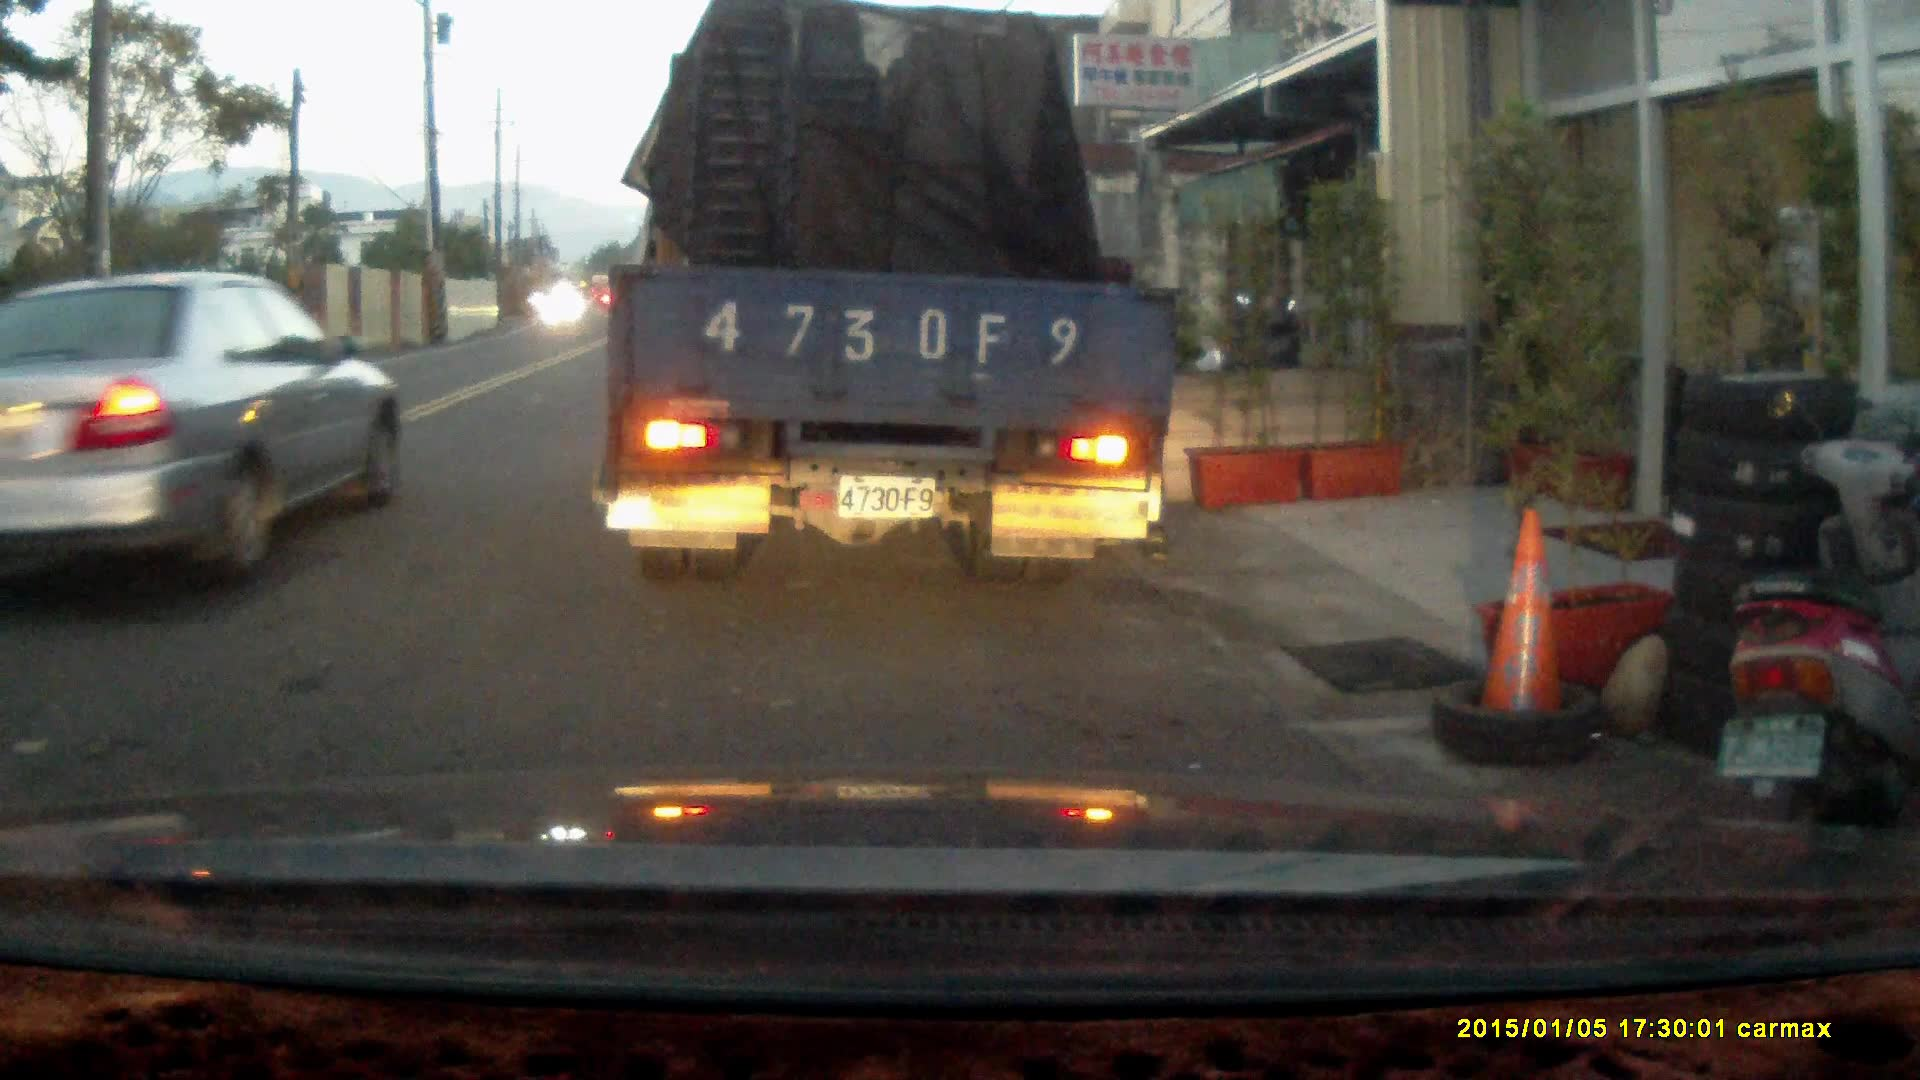pedestrian: (1737, 226, 1825, 476)
vehicle: (605, 23, 1188, 572), (1, 274, 406, 589)
